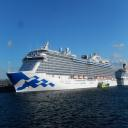cruises: (8, 40, 120, 90), (115, 63, 128, 87)
